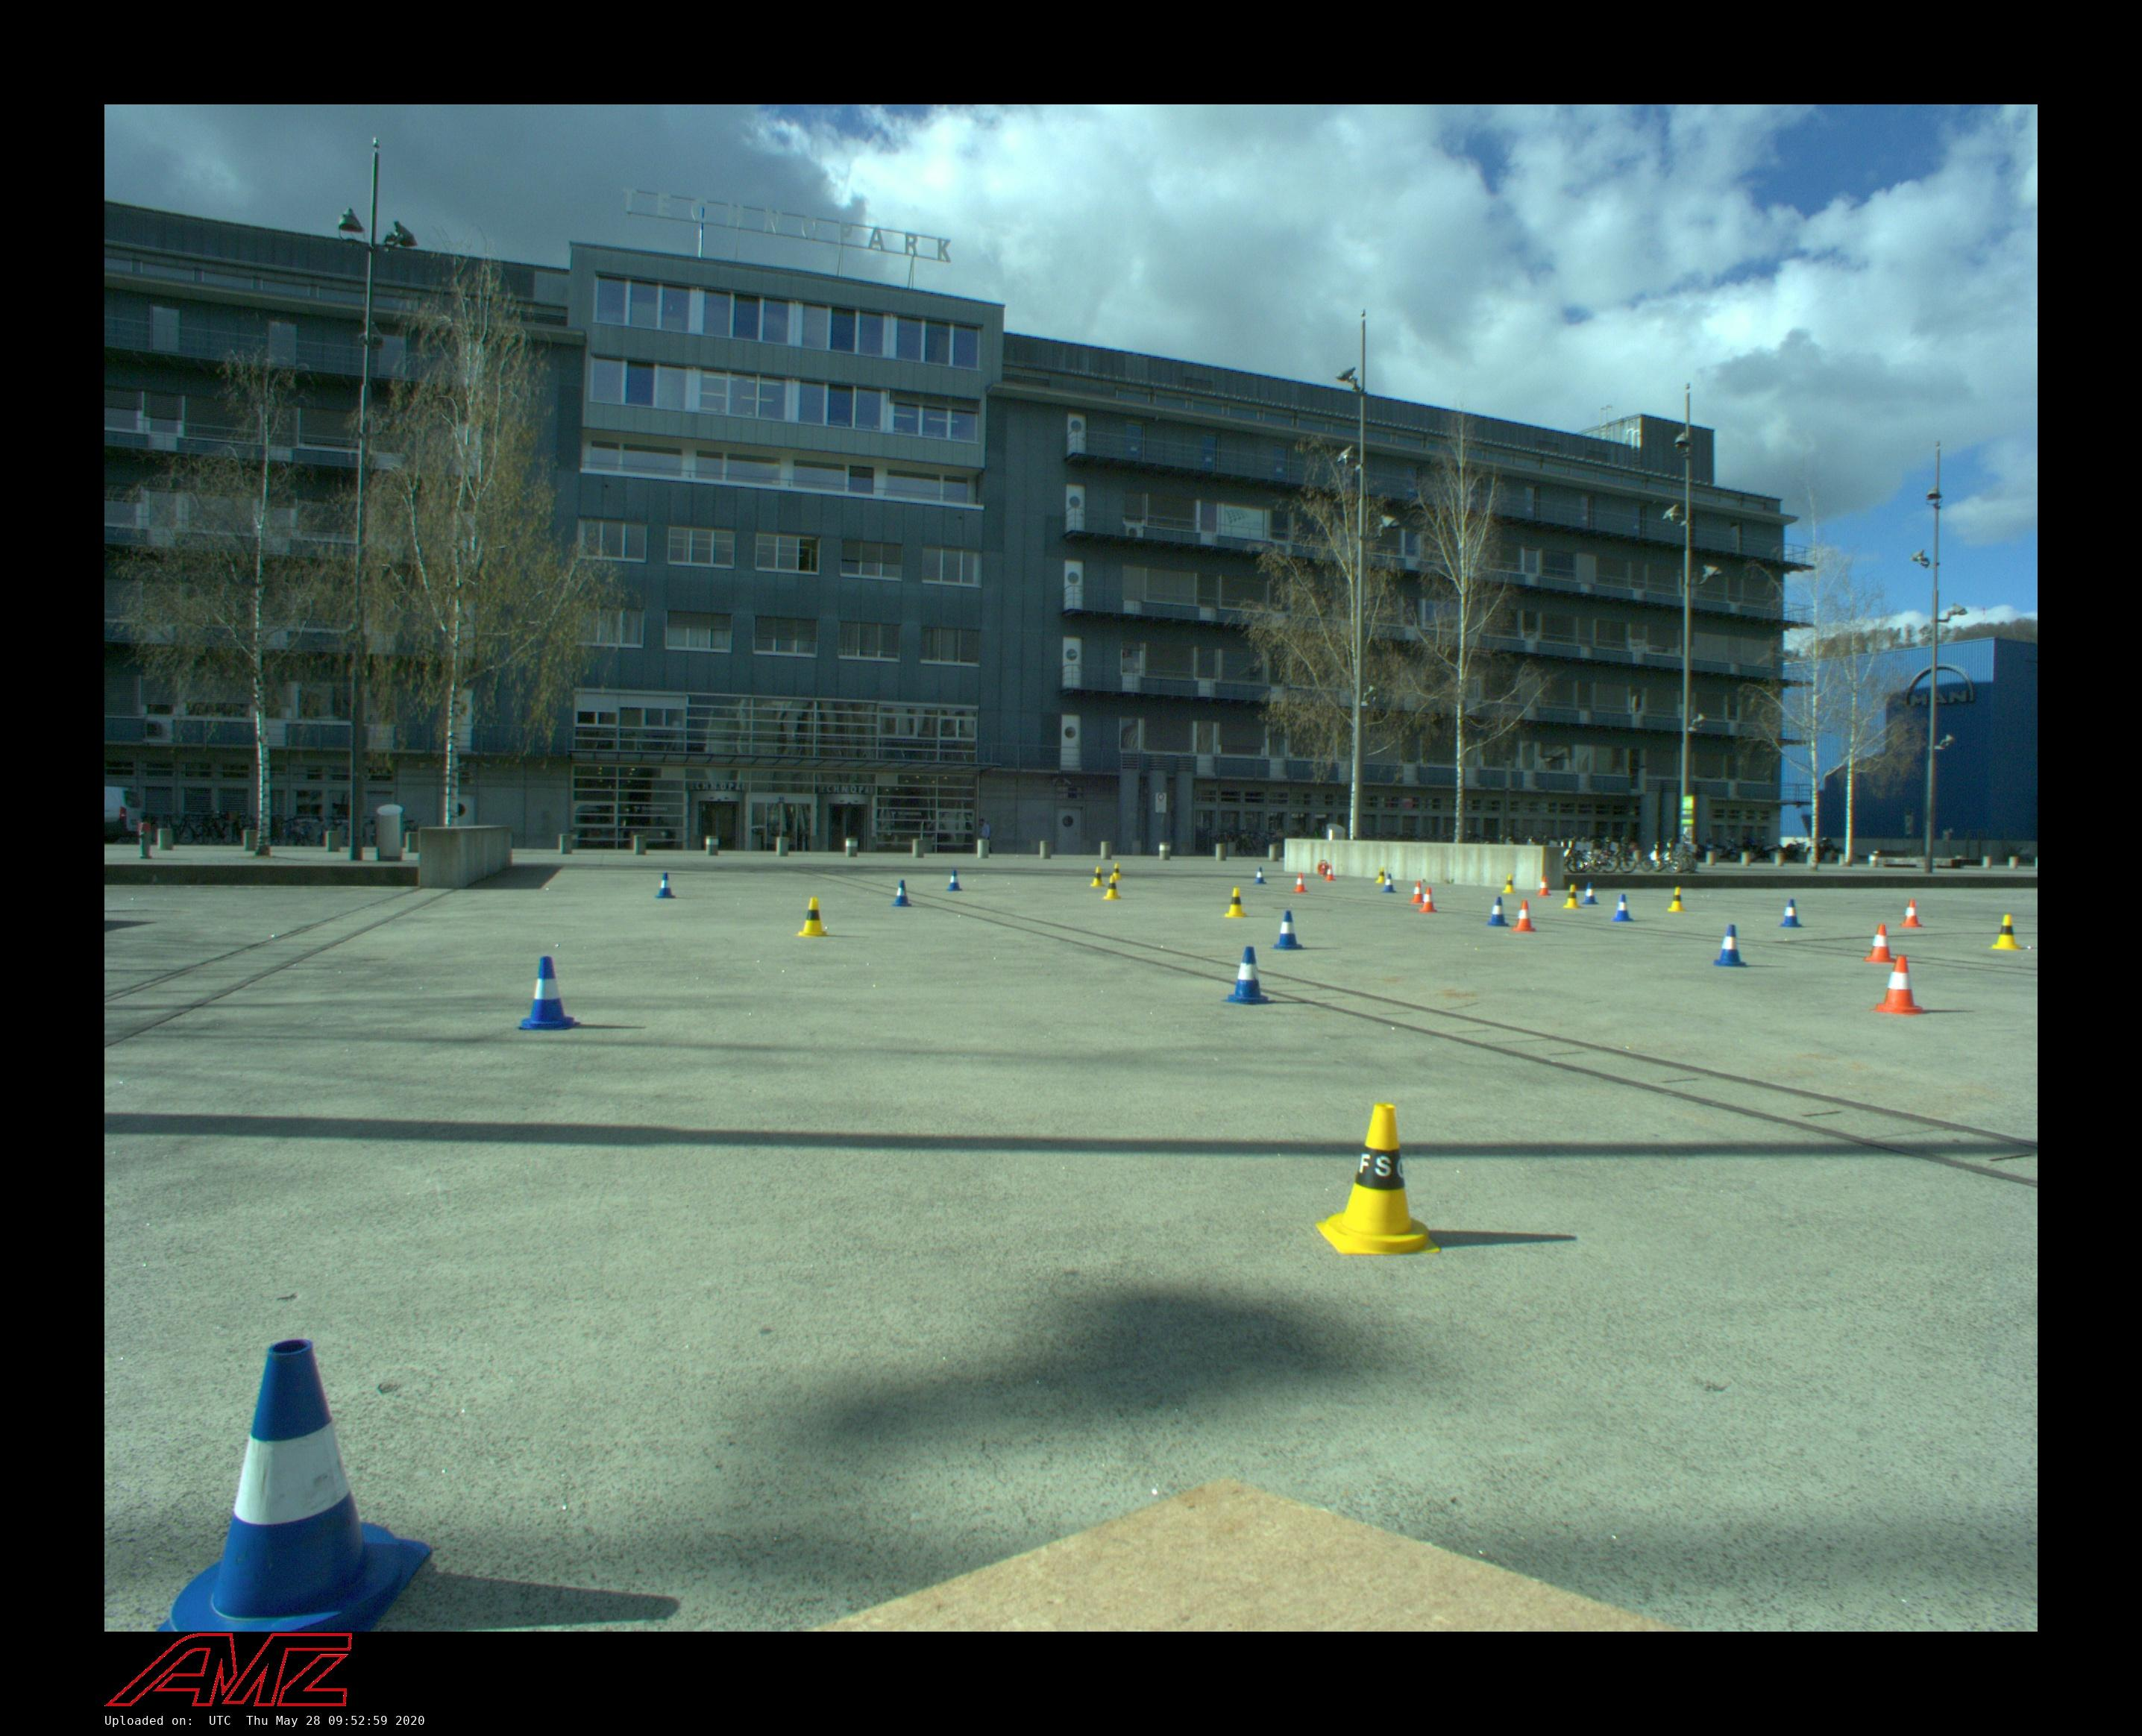blue_cone: (157, 1336, 430, 1631), (518, 956, 580, 1031), (1220, 946, 1274, 1005), (1713, 924, 1747, 967), (1271, 911, 1306, 950), (1486, 896, 1510, 927), (1779, 899, 1802, 928), (1611, 893, 1633, 922), (891, 880, 913, 907), (655, 872, 676, 899), (1581, 882, 1598, 905), (946, 869, 963, 891), (1382, 873, 1396, 893), (1253, 867, 1266, 884)
orange_cone: (1871, 956, 1929, 1016), (1863, 923, 1896, 963), (1513, 900, 1535, 931), (1899, 899, 1923, 927), (1419, 887, 1439, 913), (1410, 881, 1426, 904), (1536, 876, 1552, 896), (1293, 872, 1309, 893), (1324, 865, 1335, 881)
yellow_cone: (1315, 1104, 1439, 1255), (795, 897, 829, 937), (1989, 913, 2023, 950), (1224, 887, 1247, 918), (1102, 875, 1122, 899), (1668, 887, 1686, 912), (1562, 884, 1580, 909), (1090, 866, 1106, 887), (1501, 874, 1518, 893), (1110, 862, 1122, 881), (1375, 868, 1387, 883)
